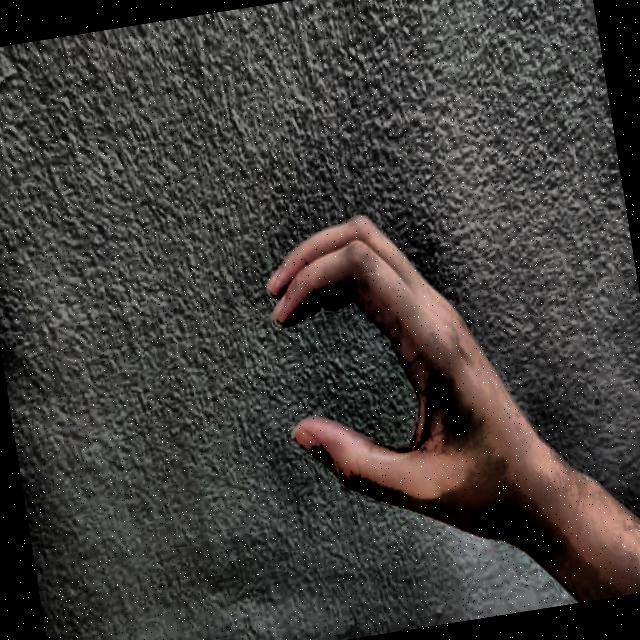A: (216, 162, 518, 597)
